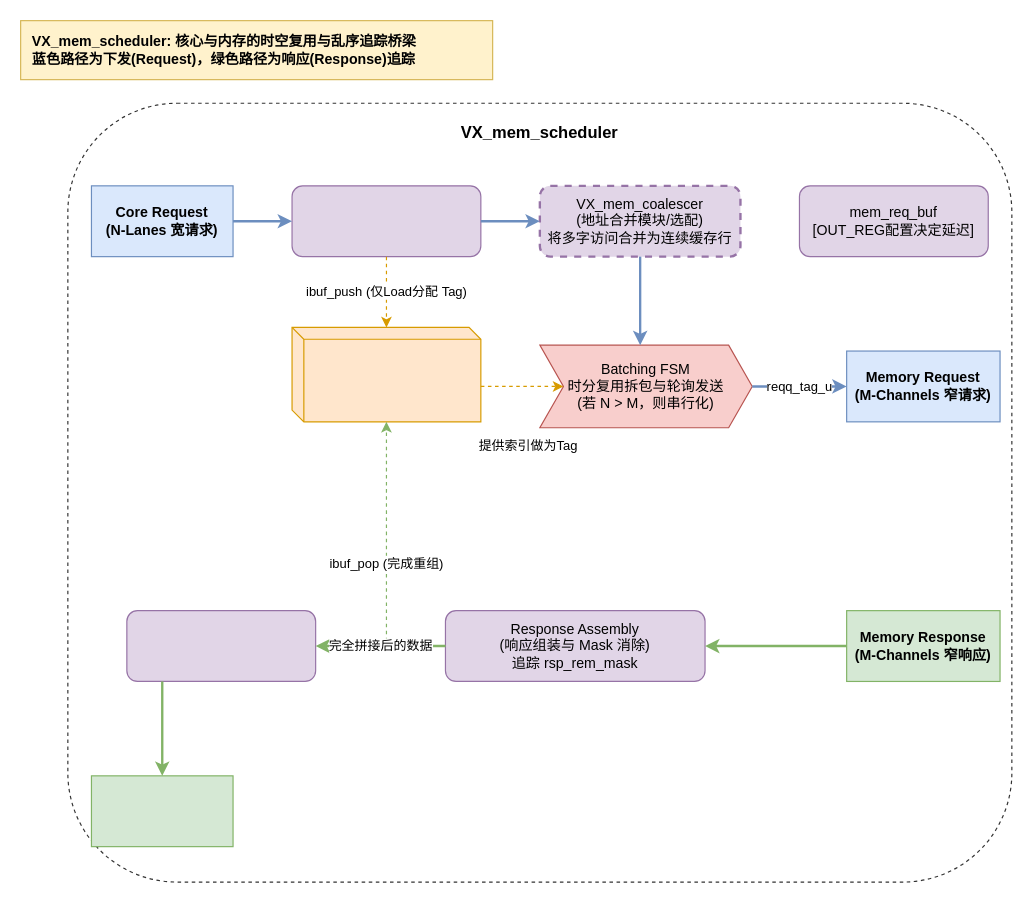
The diagram is 1033 pixels wide and 903 high, and some of its shapes have lost their labels. Here are the shapes that lost their labels. From the top down, the centre of each, then its label:
At point (386, 221): "req_queue (弹性缓冲) [SIZE=8, OUT_REG=1] +1 Cycle 延迟".
At point (386, 374): "req_ibuf (Index Buffer) 乱序请求追踪池 / MSHR [分配 waddr 作为硬件Tag]".
At point (221, 645): "rsp_buf [OUT_REG配置决定延迟]".
At point (161, 811): "Core Response (N-Lanes 宽响应)".
